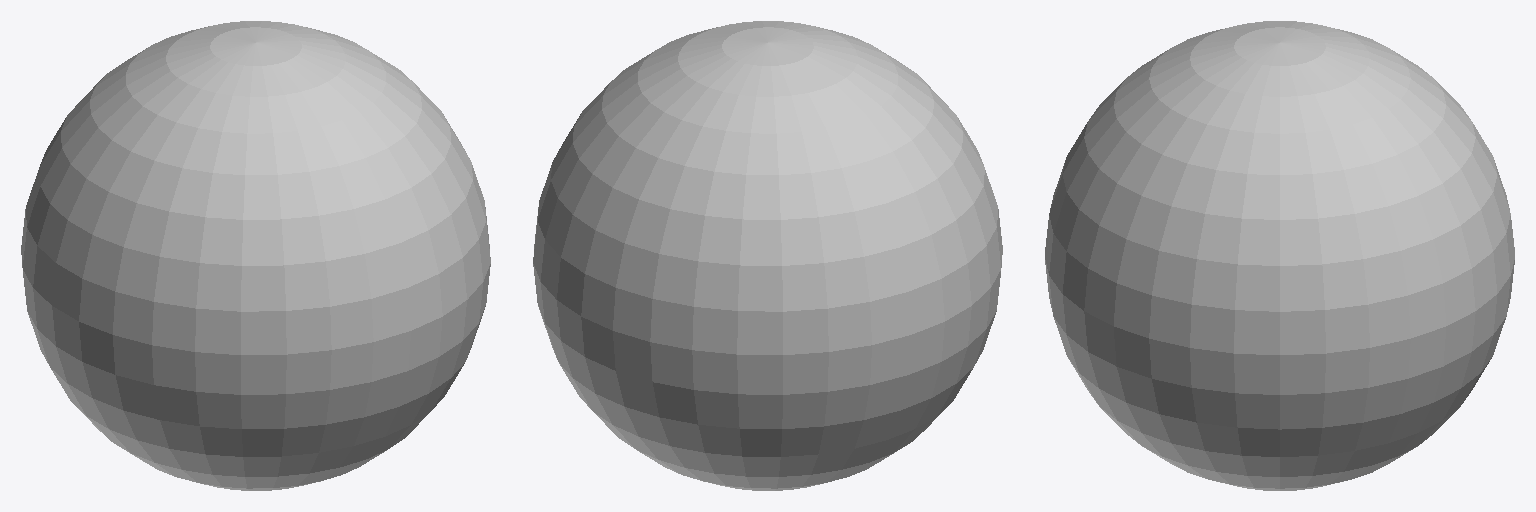
The model's file is earth.obj.
The picture shows the model from 3 angles: view 1: azimuth 30°, elevation 25°; view 2: azimuth 150°, elevation 25°; view 3: azimuth 270°, elevation 25°; orthographic projection.
Parts seen in each view (by area): view 1: Sphere; view 2: Sphere; view 3: Sphere.
Part boxes in pixels (x1,y1,x2,y2): Sphere: (21, 21, 490, 490); Sphere: (533, 21, 1002, 490); Sphere: (1045, 21, 1514, 490).
Bounding box in the file's own units: 2 × 2 × 2.